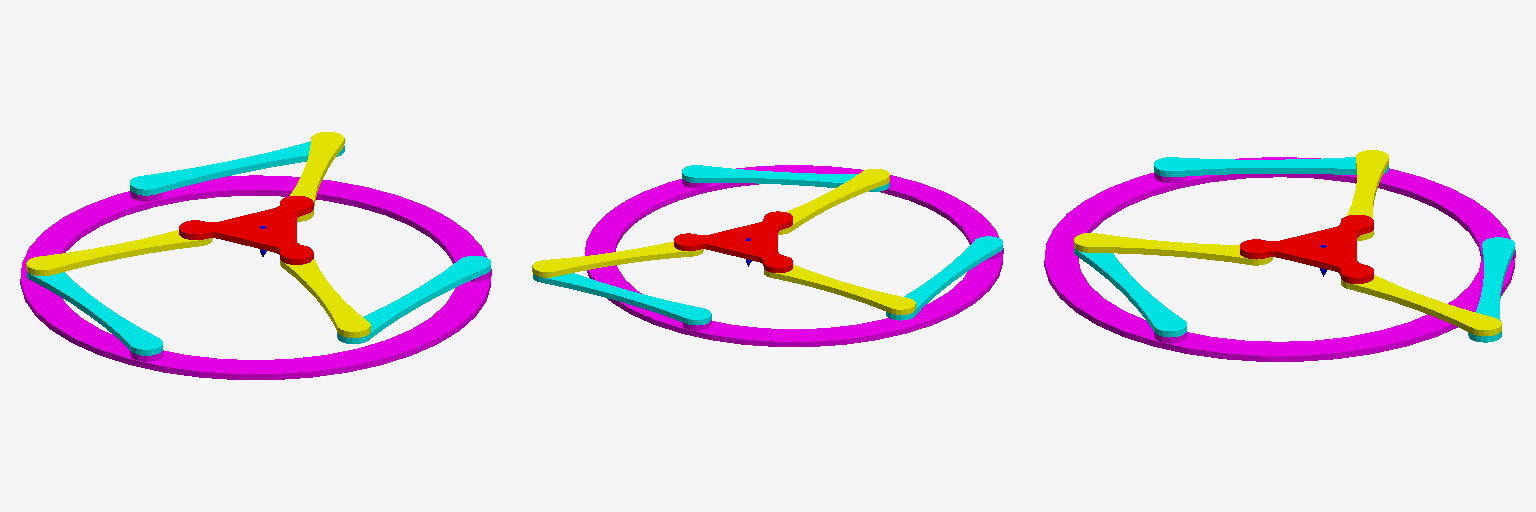
robot.urdf — 3RRR:
<?xml version="1.0" encoding="utf-8"?>
<!-- This URDF was automatically created by SolidWorks to URDF Exporter! Originally created by [author] ([email redacted]) 
     Commit Version: 1.6.0-4-g7f85cfe  Build Version: 1.6.7995.38578
     For more information, please see http://wiki.ros.org/sw_urdf_exporter -->
<robot
  name="3RRR">
  <link
    name="Base">
    <inertial>
      <origin
        xyz="1.30944519744195E-15 5.81783851824835E-15 0.00532243055878623"
        rpy="0 0 0" />
      <mass
        value="1.0550351703688" />
      <inertia
        ixx="0.0560577579053085"
        ixy="2.86455954849572E-16"
        ixz="-1.44937094873679E-17"
        iyy="0.0560577579053065"
        iyz="-5.93974438555002E-17"
        izz="0.112091347745523" />
    </inertial>
    <visual>
      <origin
        xyz="0 0 0"
        rpy="0 0 0" />
      <geometry>
        <mesh
          filename="package://3RRR/meshes/Base.STL" />
      </geometry>
      <material
        name="">
        <color
          rgba="1 0 1 1" />
      </material>
    </visual>
    <collision>
      <origin
        xyz="0 0 0"
        rpy="0 0 0" />
      <geometry>
        <mesh
          filename="package://3RRR/meshes/Base.STL" />
      </geometry>
    </collision>
  </link>
  <link
    name="Proximal_Link_1">
    <inertial>
      <origin
        xyz="-0.00179041663502744 0.129970128912467 -0.00566725132133191"
        rpy="0 0 0" />
      <mass
        value="0.124327488543994" />
      <inertia
        ixx="0.00137993884117722"
        ixy="1.87788611691986E-05"
        ixz="1.48528812081442E-07"
        iyy="1.70002959272776E-05"
        iyz="-1.0782020495E-05"
        izz="0.00139331856591979" />
    </inertial>
    <visual>
      <origin
        xyz="0 0 0"
        rpy="0 0 0" />
      <geometry>
        <mesh
          filename="package://3RRR/meshes/Proximal_Link_1.STL" />
      </geometry>
      <material
        name="">
        <color
          rgba="0 1 1 1" />
      </material>
    </visual>
    <collision>
      <origin
        xyz="0 0 0"
        rpy="0 0 0" />
      <geometry>
        <mesh
          filename="package://3RRR/meshes/Proximal_Link_1.STL" />
      </geometry>
    </collision>
  </link>
  <joint
    name="Proximal_Joint_1"
    type="continuous">
    <origin
      xyz="-0.281458256229922 -0.162500000000012 0.03"
      rpy="0 0 0" />
    <parent
      link="Base" />
    <child
      link="Proximal_Link_1" />
    <axis
      xyz="0 0 1" />
  </joint>
  <link
    name="Distal_Link_1">
    <inertial>
      <origin
        xyz="0.102451738345676 -0.00956217414797422 -0.00575678198789135"
        rpy="0 0 0" />
      <mass
        value="0.109618995082061" />
      <inertia
        ixx="2.22454560017044E-05"
        ixy="7.61347776316968E-05"
        ixz="-8.76456540526188E-06"
        iyy="0.000858958898266752"
        iyz="7.91015084613435E-07"
        izz="0.000877843779154401" />
    </inertial>
    <visual>
      <origin
        xyz="0 0 0"
        rpy="0 0 0" />
      <geometry>
        <mesh
          filename="package://3RRR/meshes/Distal_Link_1.STL" />
      </geometry>
      <material
        name="">
        <color
          rgba="1 1 0 1" />
      </material>
    </visual>
    <collision>
      <origin
        xyz="0 0 0"
        rpy="0 0 0" />
      <geometry>
        <mesh
          filename="package://3RRR/meshes/Distal_Link_1.STL" />
      </geometry>
    </collision>
  </link>
  <joint
    name="Distal_Joint_1"
    type="continuous">
    <origin
      xyz="-0.000932984996129982 0.299998549228158 0.00999999999999995"
      rpy="0 0 0" />
    <parent
      link="Proximal_Link_1" />
    <child
      link="Distal_Link_1" />
    <axis
      xyz="0 0 1" />
  </joint>
  <link
    name="Platform_1">
    <inertial>
      <origin
        xyz="0.0866025100946147 -0.0499999825156188 -0.00621550806782328"
        rpy="0 0 0" />
      <mass
        value="0.204748162200487" />
      <inertia
        ixx="0.000566208682172368"
        ixy="-6.71836347596869E-18"
        ixz="1.18263590874859E-18"
        iyy="0.000566208682172429"
        iyz="6.57112278612125E-18"
        izz="0.00112463244849758" />
    </inertial>
    <visual>
      <origin
        xyz="0 0 0"
        rpy="0 0 0" />
      <geometry>
        <mesh
          filename="package://3RRR/meshes/Platform_1.STL" />
      </geometry>
      <material
        name="">
        <color
          rgba="1 0 0 1" />
      </material>
    </visual>
    <collision>
      <origin
        xyz="0 0 0"
        rpy="0 0 0" />
      <geometry>
        <mesh
          filename="package://3RRR/meshes/Platform_1.STL" />
      </geometry>
    </collision>
  </link>
  <joint
    name="Platform_Joint_1"
    type="continuous">
    <origin
      xyz="0.245788708401739 -0.0224985492281455 0.0100000000000001"
      rpy="0 0 0" />
    <parent
      link="Distal_Link_1" />
    <child
      link="Platform_1" />
    <axis
      xyz="0 0 -1" />
  </joint>
  <link
    name="Pen_1">
    <inertial>
      <origin
        xyz="-4.16333634234434E-17 1.38777878078145E-17 0.0282692307692308"
        rpy="0 0 0" />
      <mass
        value="0.00340339204138894" />
      <inertia
        ixx="5.62818337732057E-07"
        ixy="8.61646471409283E-26"
        ixz="5.39945238248978E-22"
        iyy="5.62818337732057E-07"
        iyz="-3.39054688192683E-22"
        izz="4.1233403578366E-08" />
    </inertial>
    <visual>
      <origin
        xyz="0 0 0"
        rpy="0 0 0" />
      <geometry>
        <mesh
          filename="package://3RRR/meshes/Pen_1.STL" />
      </geometry>
      <material
        name="">
        <color
          rgba="0 0 1 1" />
      </material>
    </visual>
    <collision>
      <origin
        xyz="0 0 0"
        rpy="0 0 0" />
      <geometry>
        <mesh
          filename="package://3RRR/meshes/Pen_1.STL" />
      </geometry>
    </collision>
  </link>
  <joint
    name="Pen_Joint_1"
    type="fixed">
    <origin
      xyz="0.0866025100946133 -0.0499999825156222 -0.0499999999999999"
      rpy="0 0 0" />
    <parent
      link="Platform_1" />
    <child
      link="Pen_1" />
    <axis
      xyz="0 0 0" />
  </joint>
  <link
    name="Proximal_Link_2">
    <inertial>
      <origin
        xyz="-0.119398017342977 -0.0513765569886546 -0.00566725132133192"
        rpy="0 0 0" />
      <mass
        value="0.124327488543994" />
      <inertia
        ixx="0.000229752422246981"
        ixy="-0.000495032576623135"
        ixz="9.90498348466287E-06"
        iyy="0.00116718671485763"
        iyz="4.26208035250168E-06"
        izz="0.0013933185659199" />
    </inertial>
    <visual>
      <origin
        xyz="0 0 0"
        rpy="0 0 0" />
      <geometry>
        <mesh
          filename="package://3RRR/meshes/Proximal_Link_2.STL" />
      </geometry>
      <material
        name="">
        <color
          rgba="0 1 1 1" />
      </material>
    </visual>
    <collision>
      <origin
        xyz="0 0 0"
        rpy="0 0 0" />
      <geometry>
        <mesh
          filename="package://3RRR/meshes/Proximal_Link_2.STL" />
      </geometry>
    </collision>
  </link>
  <joint
    name="Proximal_Joint_2"
    type="continuous">
    <origin
      xyz="0.281458245997827 -0.162500003935774 0.03"
      rpy="0 0 0" />
    <parent
      link="Base" />
    <child
      link="Proximal_Link_2" />
    <axis
      xyz="0 0 1" />
  </joint>
  <link
    name="Distal_Link_2">
    <inertial>
      <origin
        xyz="0.0323227353991109 0.0656970509812092 -0.00575678198789136"
        rpy="0 0 0" />
      <mass
        value="0.109618995082061" />
      <inertia
        ixx="0.00083935119265791"
        ixy="-0.00014770942116425"
        ixz="-1.55280414659836E-06"
        iyy="4.18531616105426E-05"
        iyz="-8.66210776251977E-06"
        izz="0.000877843779154398" />
    </inertial>
    <visual>
      <origin
        xyz="0 0 0"
        rpy="0 0 0" />
      <geometry>
        <mesh
          filename="package://3RRR/meshes/Distal_Link_2.STL" />
      </geometry>
      <material
        name="">
        <color
          rgba="1 1 0 1" />
      </material>
    </visual>
    <collision>
      <origin
        xyz="0 0 0"
        rpy="0 0 0" />
      <geometry>
        <mesh
          filename="package://3RRR/meshes/Distal_Link_2.STL" />
      </geometry>
    </collision>
  </link>
  <joint
    name="Distal_Joint_2"
    type="continuous">
    <origin
      xyz="-0.289175787686616 -0.0798583575428643 0.00999999999999994"
      rpy="0 0 0" />
    <parent
      link="Proximal_Link_2" />
    <child
      link="Distal_Link_2" />
    <axis
      xyz="0 0 1" />
  </joint>
  <link
    name="Platform_2">
    <inertial>
      <origin
        xyz="1.59594559789866E-16 0.0999999650312484 -0.00621550806782347"
        rpy="0 0 0" />
      <mass
        value="0.204748162200487" />
      <inertia
        ixx="0.000566208682172368"
        ixy="-6.72449882831248E-18"
        ixz="1.18398303967365E-18"
        iyy="0.000566208682172429"
        iyz="6.56450534122083E-18"
        izz="0.00112463244849758" />
    </inertial>
    <visual>
      <origin
        xyz="0 0 0"
        rpy="0 0 0" />
      <geometry>
        <mesh
          filename="package://3RRR/meshes/Platform_2.STL" />
      </geometry>
      <material
        name="">
        <color
          rgba="1 0 0 1" />
      </material>
    </visual>
    <collision>
      <origin
        xyz="0 0 0"
        rpy="0 0 0" />
      <geometry>
        <mesh
          filename="package://3RRR/meshes/Platform_2.STL" />
      </geometry>
    </collision>
  </link>
  <joint
    name="Platform_Joint_2"
    type="continuous">
    <origin
      xyz="0.0577175189590905 0.207358413931771 0.0100000000000002"
      rpy="0 0 0" />
    <parent
      link="Distal_Link_2" />
    <child
      link="Platform_2" />
    <axis
      xyz="0 0 -1" />
  </joint>
  <link
    name="Pen_2">
    <inertial>
      <origin
        xyz="-4.16333634234434E-17 1.38777878078145E-17 0.0282692307692308"
        rpy="0 0 0" />
      <mass
        value="0.00340339204138894" />
      <inertia
        ixx="5.62818337732057E-07"
        ixy="8.61646471409283E-26"
        ixz="5.39945238248978E-22"
        iyy="5.62818337732057E-07"
        iyz="-3.39054688192683E-22"
        izz="4.1233403578366E-08" />
    </inertial>
    <visual>
      <origin
        xyz="0 0 0"
        rpy="0 0 0" />
      <geometry>
        <mesh
          filename="package://3RRR/meshes/Pen_2.STL" />
      </geometry>
      <material
        name="">
        <color
          rgba="0 0 1 1" />
      </material>
    </visual>
    <collision>
      <origin
        xyz="0 0 0"
        rpy="0 0 0" />
      <geometry>
        <mesh
          filename="package://3RRR/meshes/Pen_2.STL" />
      </geometry>
    </collision>
  </link>
  <joint
    name="Pen_Joint_2"
    type="fixed">
    <origin
      xyz="0 0.099999965031245 -0.0500000000000001"
      rpy="0 0 0" />
    <parent
      link="Platform_2" />
    <child
      link="Pen_2" />
    <axis
      xyz="0 0 0" />
  </joint>
  <link
    name="Proximal_Link_3">
    <inertial>
      <origin
        xyz="0.129687423362086 -0.00875294869106913 -0.00566725132133166"
        rpy="0 0 0" />
      <mass
        value="0.124327488543995" />
      <inertia
        ixx="2.29243640146027E-05"
        ixy="9.16061776548244E-05"
        ixz="-1.0758567187218E-05"
        iyy="0.00137401477309026"
        iyz="7.26125912481137E-07"
        izz="0.00139331856592015" />
    </inertial>
    <visual>
      <origin
        xyz="0 0 0"
        rpy="0 0 0" />
      <geometry>
        <mesh
          filename="package://3RRR/meshes/Proximal_Link_3.STL" />
      </geometry>
      <material
        name="">
        <color
          rgba="0 1 1 1" />
      </material>
    </visual>
    <collision>
      <origin
        xyz="0 0 0"
        rpy="0 0 0" />
      <geometry>
        <mesh
          filename="package://3RRR/meshes/Proximal_Link_3.STL" />
      </geometry>
    </collision>
  </link>
  <joint
    name="Proximal_Joint_3"
    type="continuous">
    <origin
      xyz="0 0.324999980868794 0.0299999999999999"
      rpy="0 0 0" />
    <parent
      link="Base" />
    <child
      link="Proximal_Link_3" />
    <axis
      xyz="0 0 1" />
  </joint>
  <link
    name="Distal_Link_3">
    <inertial>
      <origin
        xyz="-0.0683244836601158 -0.0717816272826453 -0.00575678198789144"
        rpy="0 0 0" />
      <mass
        value="0.10961899508206" />
      <inertia
        ixx="0.000505554230346846"
        ixy="-0.000420238124478496"
        ixz="5.72774489764728E-06"
        iyy="0.000375650123921724"
        iyz="6.68103659581881E-06"
        izz="0.000877843779154515" />
    </inertial>
    <visual>
      <origin
        xyz="0 0 0"
        rpy="0 0 0" />
      <geometry>
        <mesh
          filename="package://3RRR/meshes/Distal_Link_3.STL" />
      </geometry>
      <material
        name="">
        <color
          rgba="1 1 0 1" />
      </material>
    </visual>
    <collision>
      <origin
        xyz="0 0 0"
        rpy="0 0 0" />
      <geometry>
        <mesh
          filename="package://3RRR/meshes/Distal_Link_3.STL" />
      </geometry>
    </collision>
  </link>
  <joint
    name="Distal_Joint_3"
    type="continuous">
    <origin
      xyz="0.298599347923383 -0.0289557149727769 0.0100000000000005"
      rpy="0 0 0" />
    <parent
      link="Proximal_Link_3" />
    <child
      link="Distal_Link_3" />
    <axis
      xyz="0 0 1" />
  </joint>
  <link
    name="Platform_3">
    <inertial>
      <origin
        xyz="-0.0866025100946116 -0.0499999825156202 -0.00621550806782345"
        rpy="0 0 0" />
      <mass
        value="0.204748162200487" />
      <inertia
        ixx="0.000566208682172368"
        ixy="-6.76552698854634E-18"
        ixz="1.18230289517479E-18"
        iyy="0.000566208682172429"
        iyz="6.56119661877062E-18"
        izz="0.00112463244849758" />
    </inertial>
    <visual>
      <origin
        xyz="0 0 0"
        rpy="0 0 0" />
      <geometry>
        <mesh
          filename="package://3RRR/meshes/Platform_3.STL" />
      </geometry>
      <material
        name="">
        <color
          rgba="1 0 0 1" />
      </material>
    </visual>
    <collision>
      <origin
        xyz="0 0 0"
        rpy="0 0 0" />
      <geometry>
        <mesh
          filename="package://3RRR/meshes/Platform_3.STL" />
      </geometry>
    </collision>
  </link>
  <joint
    name="Platform_Joint_3"
    type="continuous">
    <origin
      xyz="-0.161996851988848 -0.181044265896015 0.00999999999999979"
      rpy="0 0 0" />
    <parent
      link="Distal_Link_3" />
    <child
      link="Platform_3" />
    <axis
      xyz="0 0 -1" />
  </joint>
  <link
    name="Pen_3">
    <inertial>
      <origin
        xyz="-4.16333634234434E-17 1.38777878078145E-17 0.0282692307692308"
        rpy="0 0 0" />
      <mass
        value="0.00340339204138894" />
      <inertia
        ixx="5.62818337732057E-07"
        ixy="8.61646471409283E-26"
        ixz="5.39945238248978E-22"
        iyy="5.62818337732057E-07"
        iyz="-3.39054688192683E-22"
        izz="4.1233403578366E-08" />
    </inertial>
    <visual>
      <origin
        xyz="0 0 0"
        rpy="0 0 0" />
      <geometry>
        <mesh
          filename="package://3RRR/meshes/Pen_3.STL" />
      </geometry>
      <material
        name="">
        <color
          rgba="0 0 1 1" />
      </material>
    </visual>
    <collision>
      <origin
        xyz="0 0 0"
        rpy="0 0 0" />
      <geometry>
        <mesh
          filename="package://3RRR/meshes/Pen_3.STL" />
      </geometry>
    </collision>
  </link>
  <joint
    name="Pen_Joint_3"
    type="fixed">
    <origin
      xyz="-0.086602510094613 -0.0499999825156237 -0.05"
      rpy="0 0 0" />
    <parent
      link="Platform_3" />
    <child
      link="Pen_3" />
    <axis
      xyz="0 0 0" />
  </joint>
</robot>

--- What the picture shows (computed from the rendered views, not written in the file) ---
The picture shows the robot from 3 angles, left to right: view 1: azimuth 30°, elevation 25°; view 2: azimuth 150°, elevation 25°; view 3: azimuth 270°, elevation 25°; orthographic projection.
Model 3RRR with 13 links and 12 joints (9 continuous, 3 fixed), rooted at Base, posed every joint at zero.
Links seen in each view (by area): view 1: Base, Proximal_Link_3, Distal_Link_1, Proximal_Link_2, Proximal_Link_1, Platform_1, Distal_Link_2, Distal_Link_3, Platform_2; view 2: Base, Proximal_Link_3, Proximal_Link_2, Distal_Link_3, Distal_Link_1, Proximal_Link_1, Distal_Link_2, Platform_1, Platform_2; view 3: Base, Proximal_Link_1, Distal_Link_2, Distal_Link_3, Proximal_Link_2, Platform_3, Proximal_Link_3, Distal_Link_1, Platform_1, Platform_2.
Link boxes in pixels (left/top/right/bottom): Base: left=20, top=175, right=491, bottom=379; Proximal_Link_3: left=130, top=141, right=344, bottom=195; Distal_Link_1: left=26, top=230, right=212, bottom=275; Proximal_Link_2: left=337, top=256, right=490, bottom=343; Proximal_Link_1: left=27, top=272, right=162, bottom=355; Platform_1: left=179, top=196, right=313, bottom=264; Distal_Link_2: left=280, top=259, right=370, bottom=337; Distal_Link_3: left=290, top=132, right=344, bottom=221; Platform_2: left=180, top=196, right=310, bottom=261; Base: left=585, top=165, right=1003, bottom=346; Proximal_Link_3: left=533, top=273, right=711, bottom=325; Proximal_Link_2: left=682, top=165, right=889, bottom=191; Distal_Link_3: left=532, top=241, right=703, bottom=277; Distal_Link_1: left=764, top=264, right=915, bottom=314; Proximal_Link_1: left=886, top=236, right=1002, bottom=320; Distal_Link_2: left=778, top=169, right=889, bottom=234; Platform_1: left=674, top=211, right=792, bottom=272; Platform_2: left=674, top=211, right=792, bottom=266; Base: left=1044, top=157, right=1515, bottom=361; Proximal_Link_1: left=1154, top=157, right=1388, bottom=176; Distal_Link_2: left=1074, top=233, right=1272, bottom=265; Distal_Link_3: left=1341, top=275, right=1501, bottom=336; Proximal_Link_2: left=1074, top=248, right=1186, bottom=337; Platform_3: left=1240, top=215, right=1373, bottom=283; Proximal_Link_3: left=1468, top=237, right=1514, bottom=342; Distal_Link_1: left=1347, top=150, right=1388, bottom=240; Platform_1: left=1240, top=215, right=1373, bottom=283; Platform_2: left=1246, top=215, right=1372, bottom=277.
Bounding box of the posed robot: 0.7 × 0.6997 × 0.05 m (x, y, z).
Meshes: 13 distinct files referenced, 11 mesh visuals loaded (11 binary STL); not drawn: 2 (reference not matched to a file when rendering).
